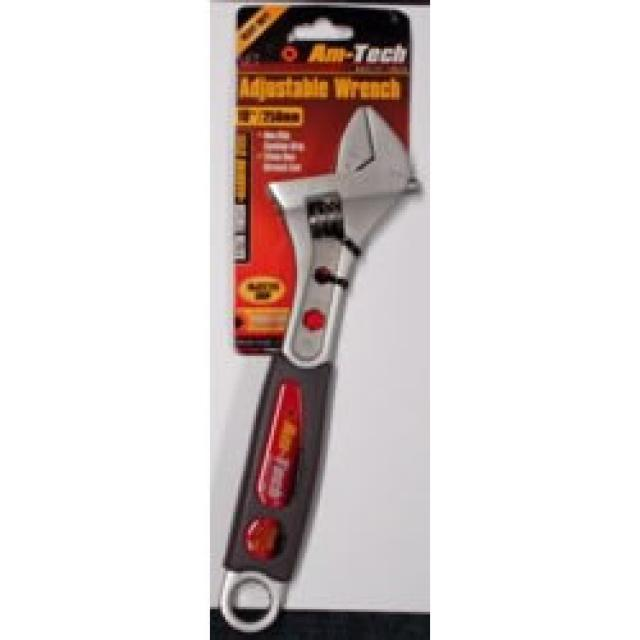wrench: (208, 98, 421, 640)
